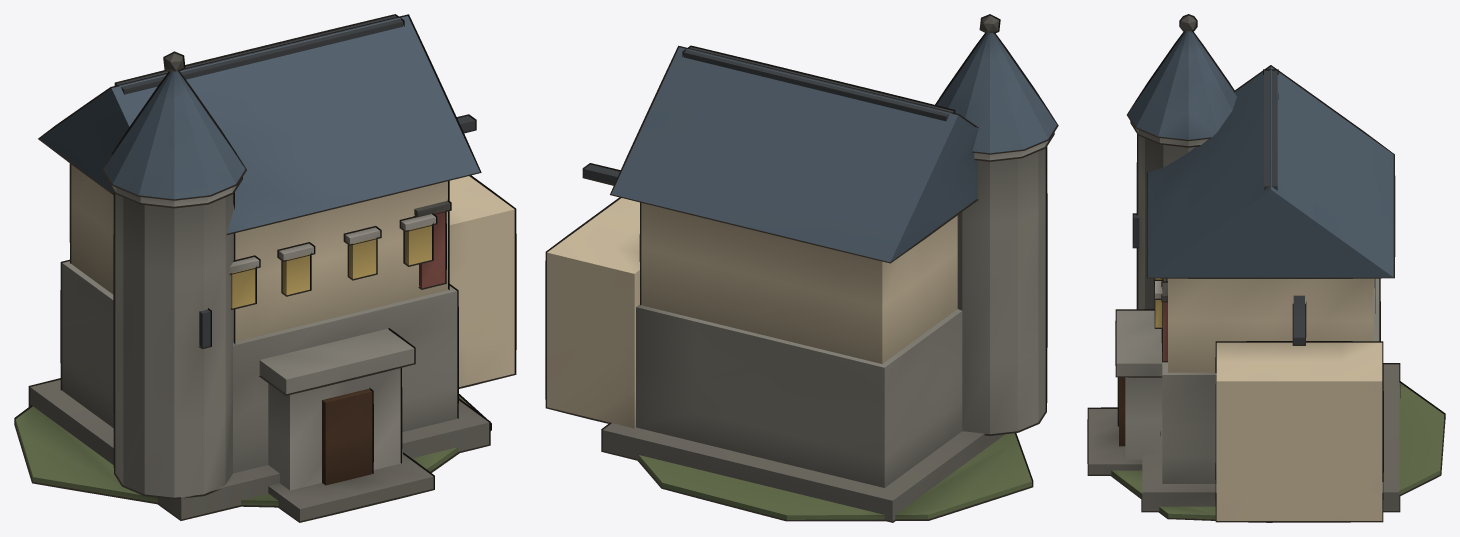
The model's file is manoir.glb.
3 views of the same model, side by side, from view 1: azimuth 30°, elevation 25°; view 2: azimuth 150°, elevation 25°; view 3: azimuth 270°, elevation 25° (orthographic). The views are drawn at different scales.
Parts seen in each view (by area): view 1: manoir, manoir_outline; view 2: manoir, manoir_outline; view 3: manoir, manoir_outline.
Part boxes in pixels (box(x1,y1,x2,y2)): manoir: box(15, 15, 514, 521); manoir_outline: box(14, 14, 516, 522); manoir: box(547, 15, 1056, 521); manoir_outline: box(545, 14, 1058, 522); manoir: box(1088, 15, 1444, 520); manoir_outline: box(1087, 14, 1445, 522).
Bounding box in the file's own units: 3.94 × 3.66 × 3.13.
